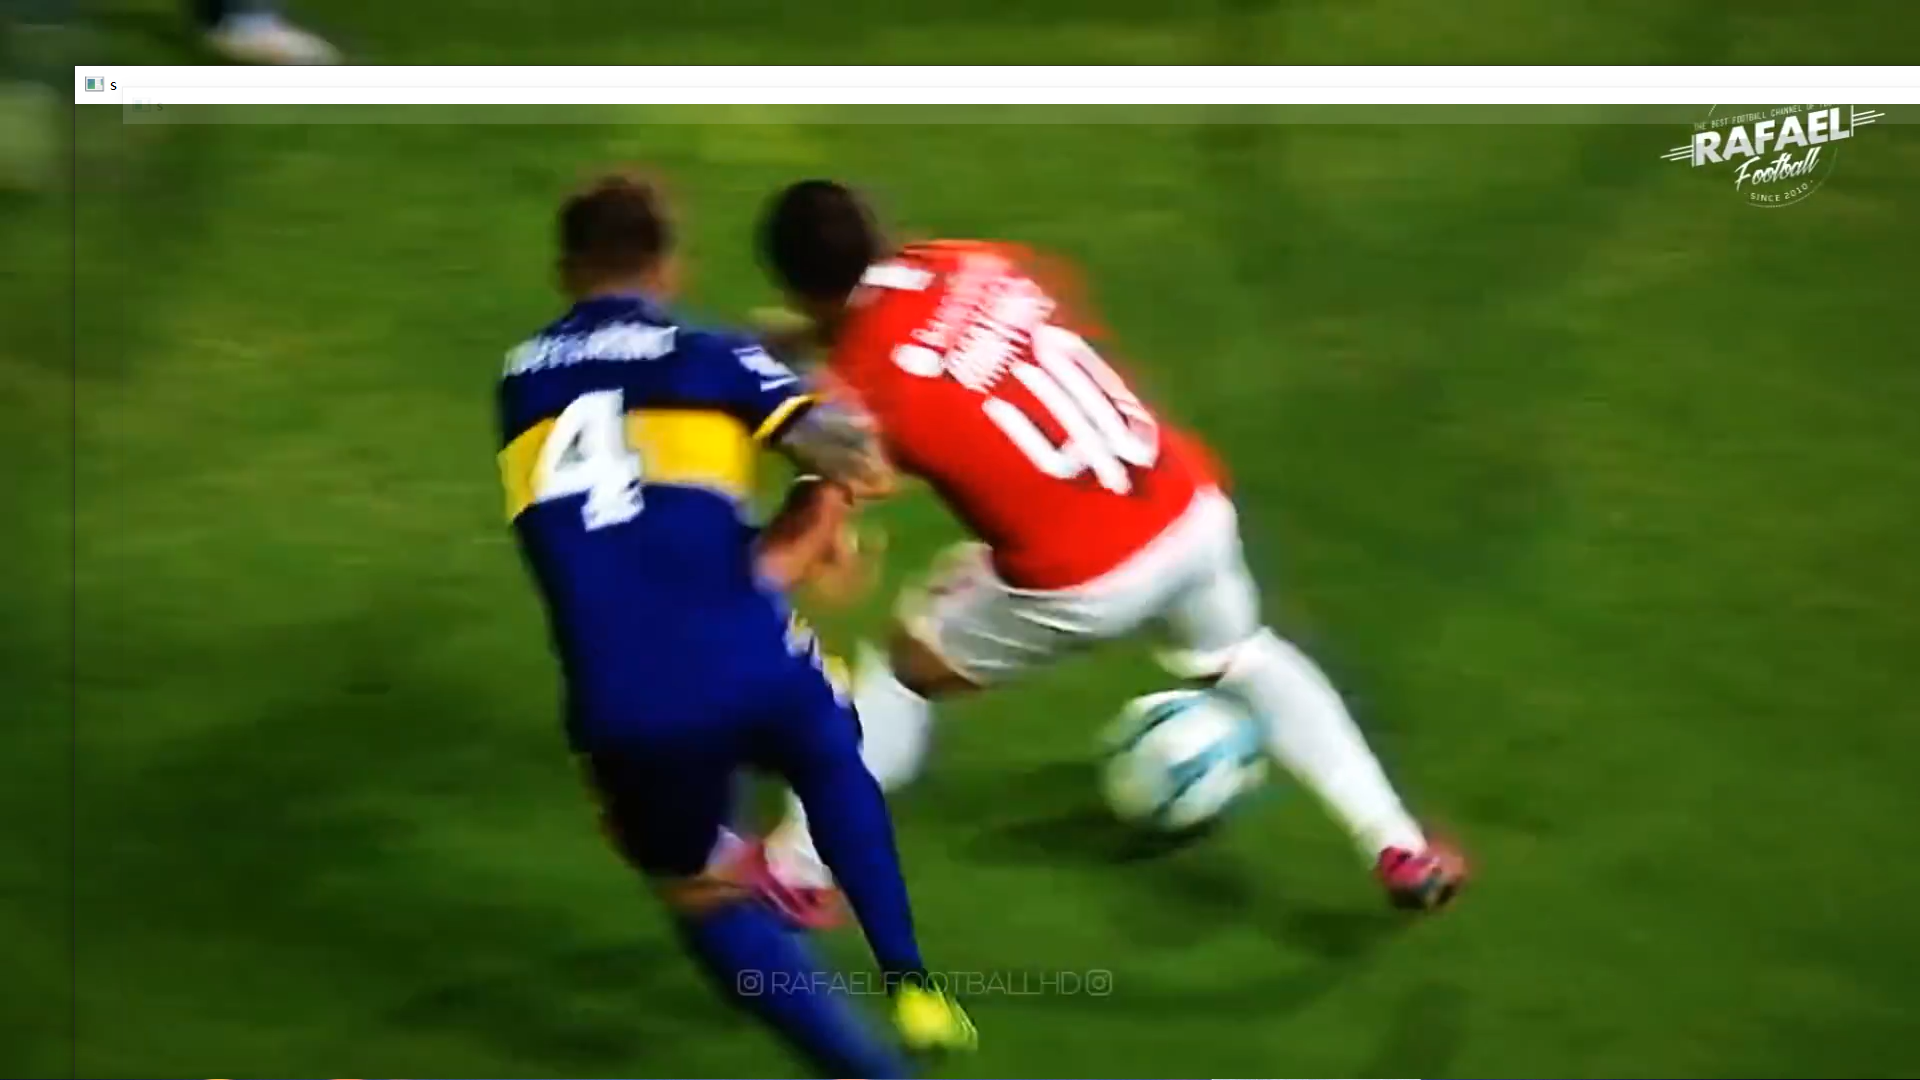ft: (1095, 673, 1279, 852)
